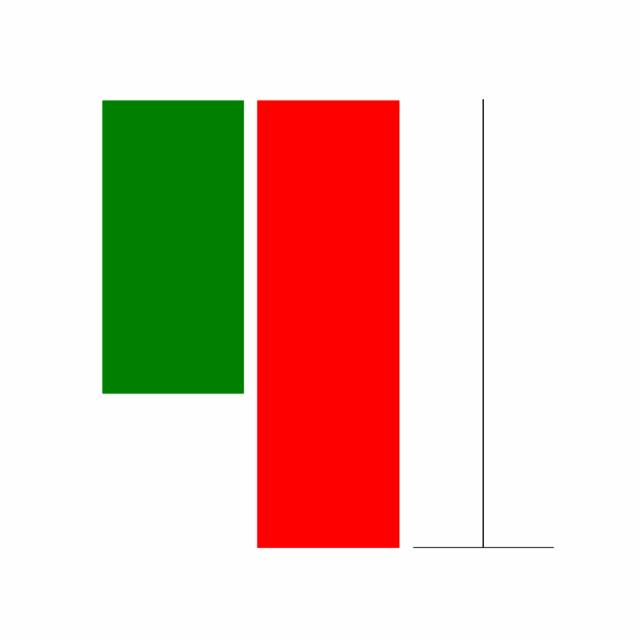Gravestone Doji: (405, 94, 561, 552)
